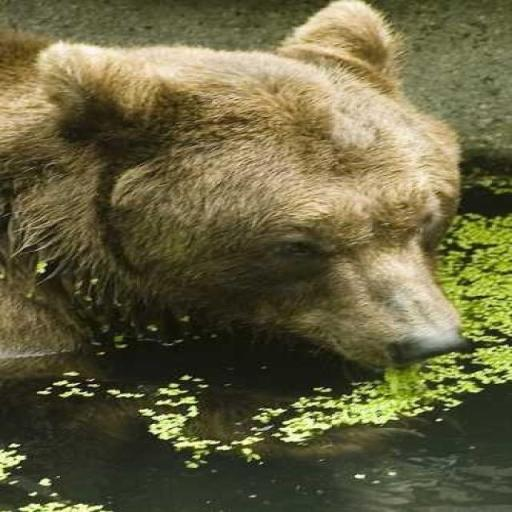Bear: (0, 0, 472, 387)
